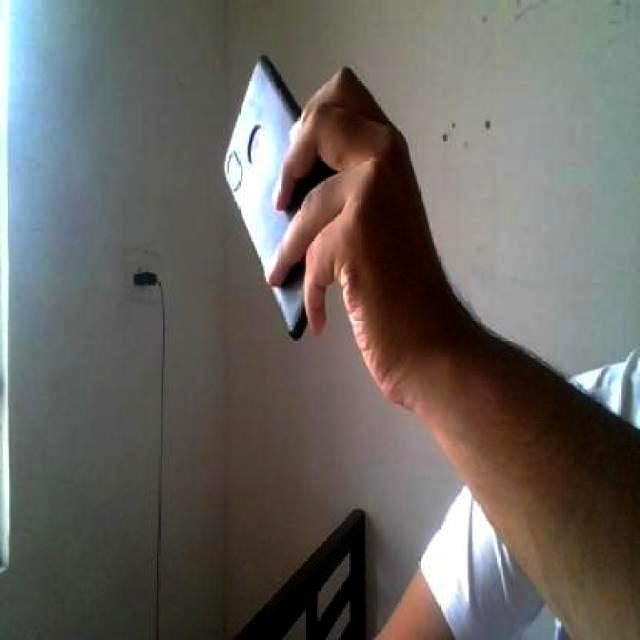lens_back: (220, 152, 238, 172)
phone: (212, 44, 327, 343)
